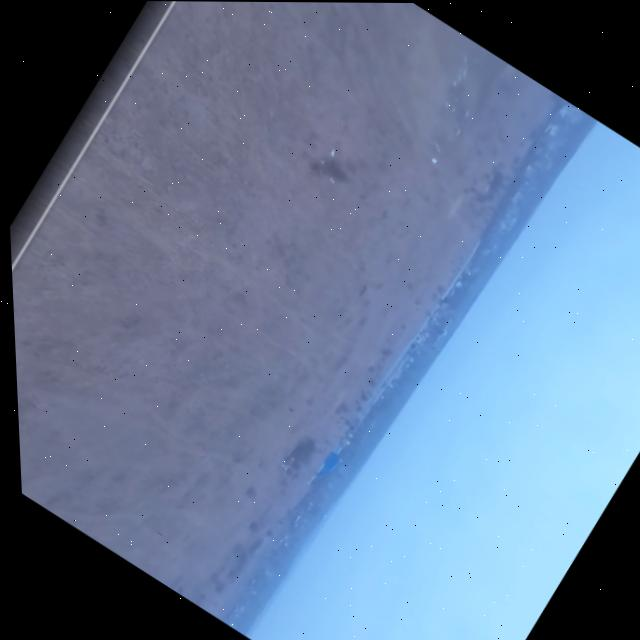planedrone: (419, 309, 464, 357)
